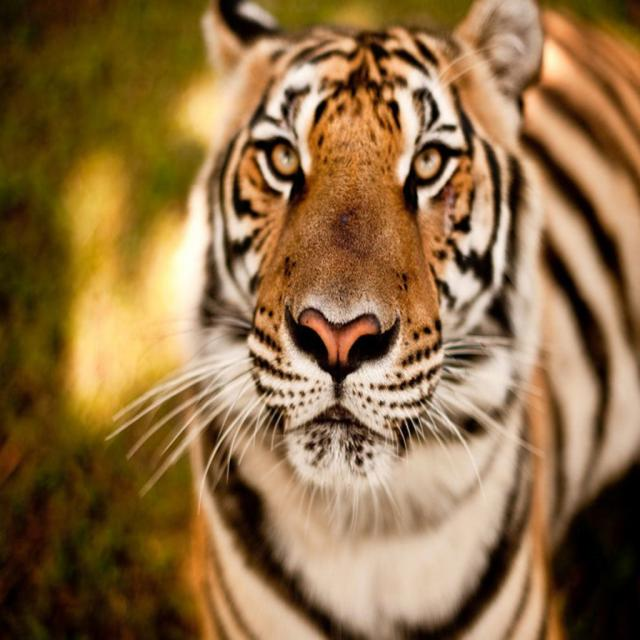Tiger: (106, 0, 639, 639)
